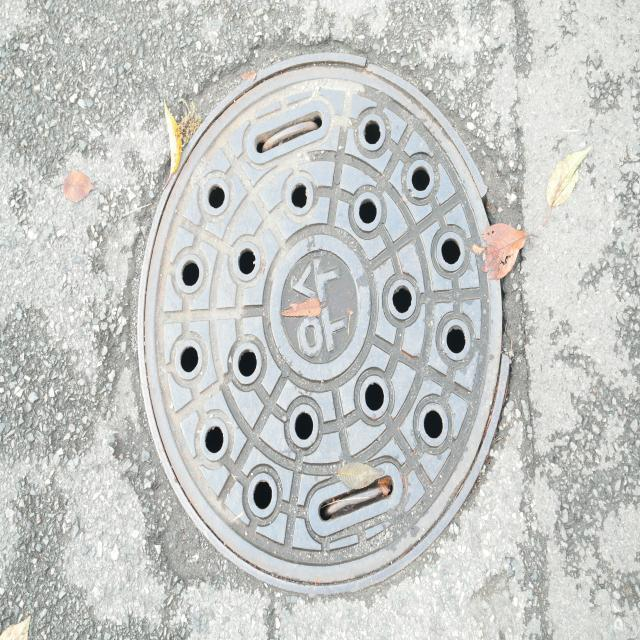manhole: (139, 54, 509, 592)
